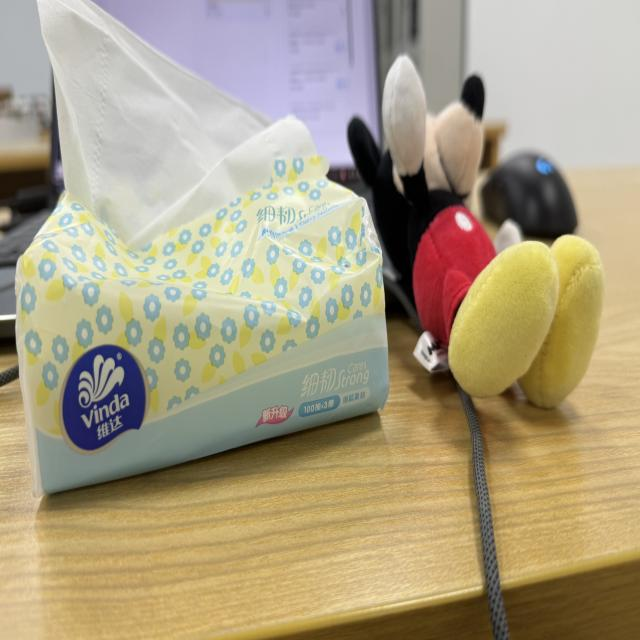mickey: (349, 57, 603, 407)
tissue: (16, 0, 388, 495), (38, 0, 315, 247)
